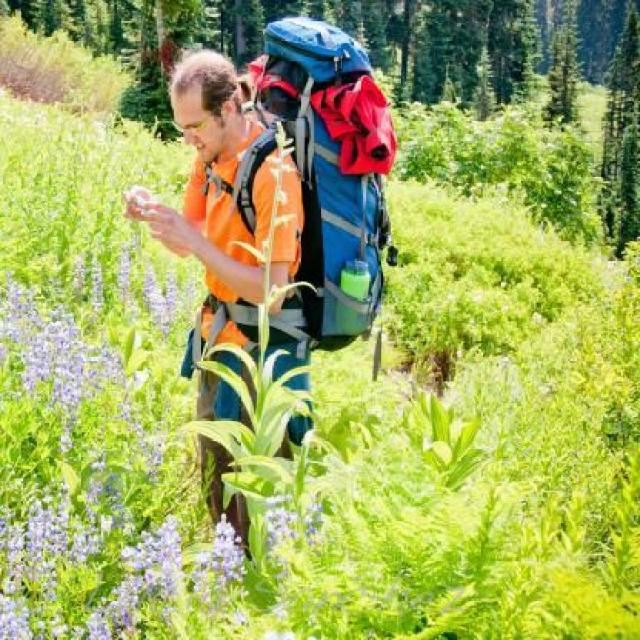backpack: (256, 14, 402, 351)
